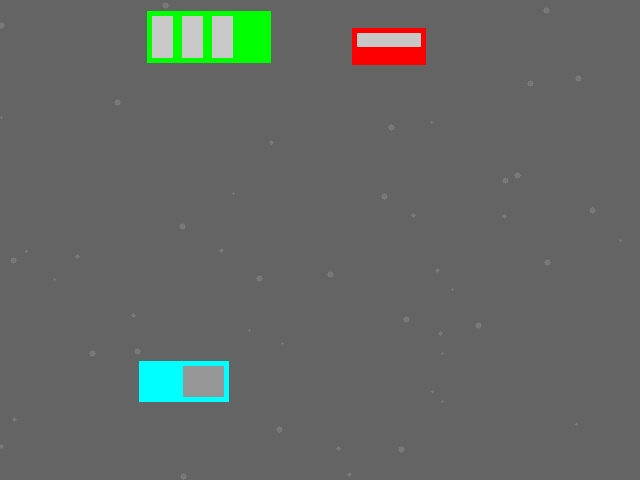bus: (147, 11, 270, 62)
car: (352, 28, 425, 64)
truck: (139, 361, 228, 401)
